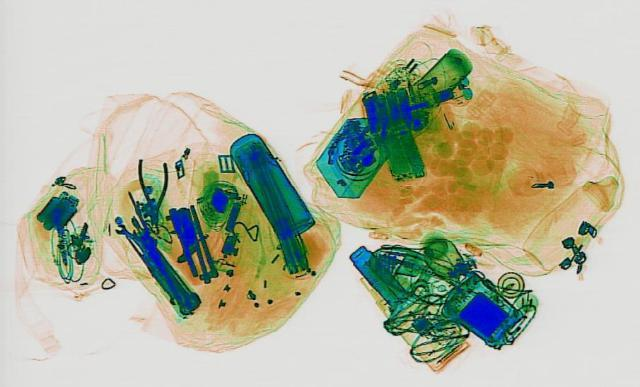Pliers: (134, 159, 170, 232)
